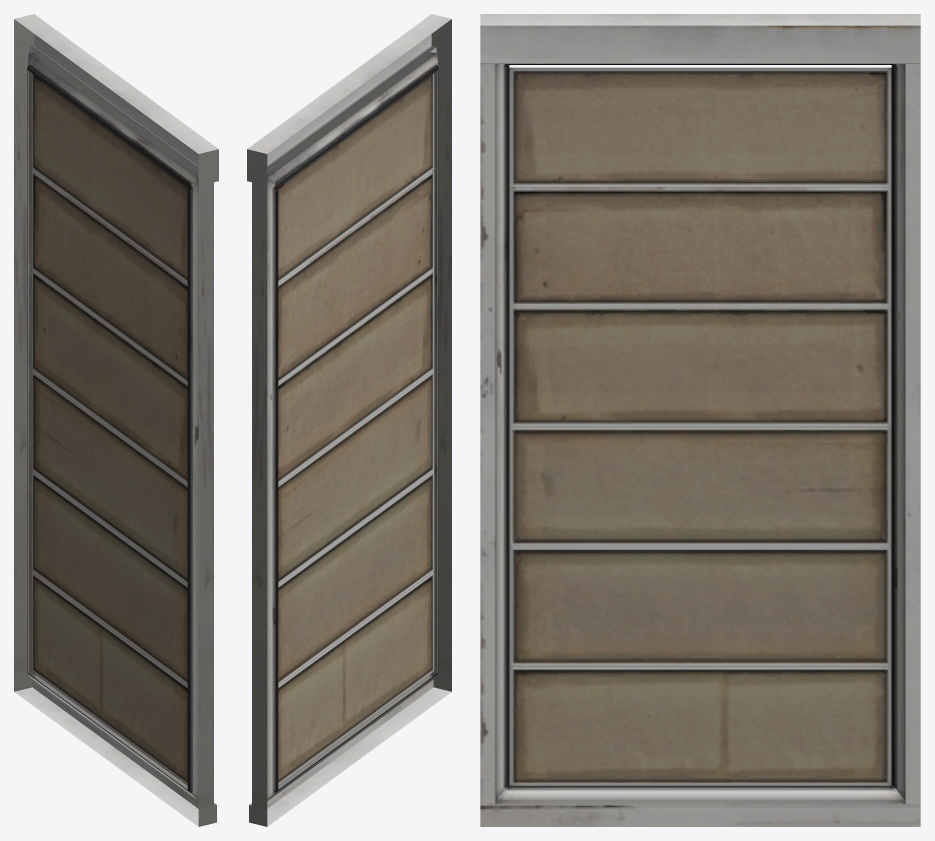
Rendered from window06_48_96_flat.glb.
3 renders of one model, left to right at view 1: azimuth 30°, elevation 25°; view 2: azimuth 150°, elevation 25°; view 3: azimuth 270°, elevation 25°, orthographic. The views are drawn at different scales.
Visible parts, largest first — view 1: window06_48_96_flat; view 2: window06_48_96_flat; view 3: window06_48_96_flat.
Part boxes in pixels (<box>): window06_48_96_flat: <box>14,14,218,826</box>; window06_48_96_flat: <box>247,14,451,826</box>; window06_48_96_flat: <box>480,14,920,826</box>.
Bounding box in the file's own units: 0.0622 × 1.97 × 0.982.
Materials: 1 (1 with a texture image).
